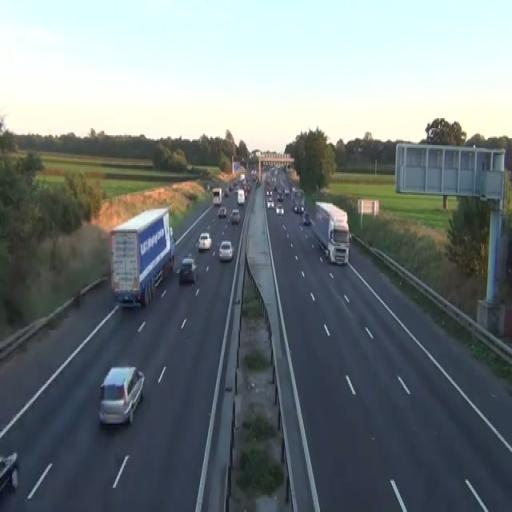Car: (98, 366, 146, 426), (179, 258, 198, 284), (218, 240, 234, 262), (197, 233, 212, 251), (230, 208, 240, 224), (218, 206, 227, 218)
Truck: (109, 206, 176, 309), (314, 202, 350, 266), (0, 452, 19, 496)
